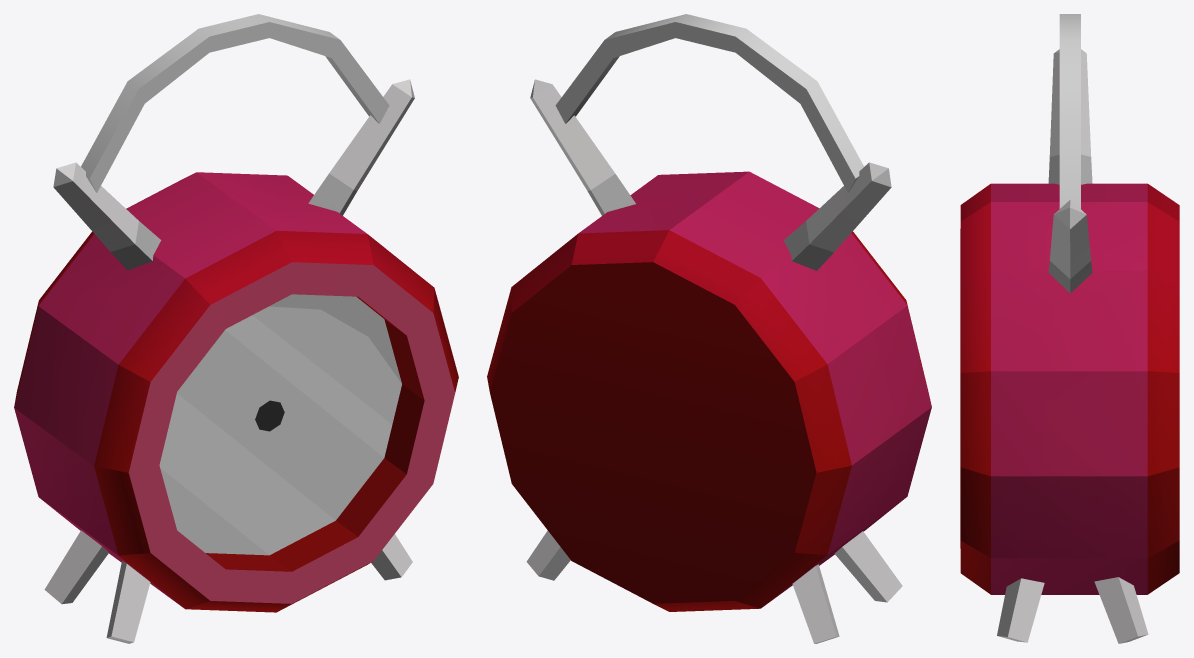
File: goodTimesClockBody.glb
3 renders of one model, left to right at view 1: azimuth 30°, elevation 25°; view 2: azimuth 150°, elevation 25°; view 3: azimuth 270°, elevation 25°, orthographic. The views are drawn at different scales.
Visible parts, largest first — view 1: goodTimesClockBody; view 2: goodTimesClockBody; view 3: goodTimesClockBody.
Boxes of the visible parts, <box> form: goodTimesClockBody: <box>14,14,458,643</box>; goodTimesClockBody: <box>487,14,931,643</box>; goodTimesClockBody: <box>960,14,1179,643</box>.
Size of the model in its own units: 0.4318 by 0.6391 by 0.229.
